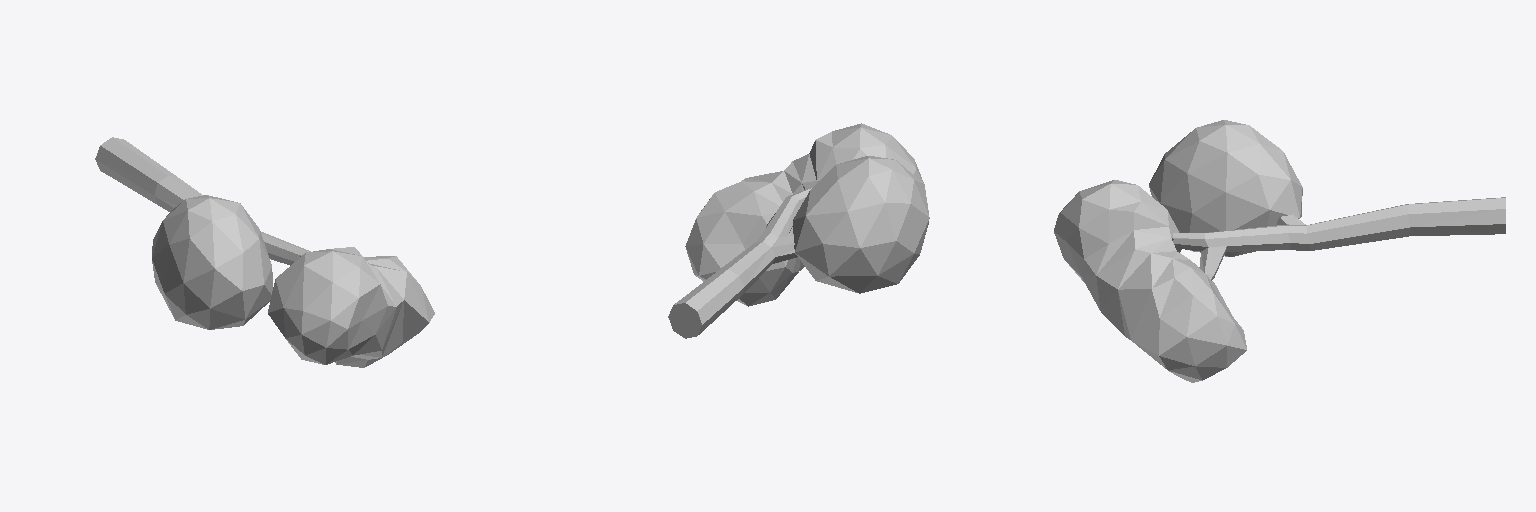
Rendered from simpleTree.obj.
The picture shows the model from 3 angles: view 1: azimuth 30°, elevation 25°; view 2: azimuth 150°, elevation 25°; view 3: azimuth 270°, elevation 25°; orthographic projection.
Visible parts, largest first — view 1: Norm_Tree_Leaves_Icosphere, Norm_Tree_Branches_Cylinder.001; view 2: Norm_Tree_Leaves_Icosphere, Norm_Tree_Branches_Cylinder.001; view 3: Norm_Tree_Leaves_Icosphere, Norm_Tree_Branches_Cylinder.001.
Boxes of the visible parts, box(x1,y1,x2,y2) form: Norm_Tree_Leaves_Icosphere: box(152, 195, 434, 367); Norm_Tree_Branches_Cylinder.001: box(95, 137, 310, 265); Norm_Tree_Leaves_Icosphere: box(685, 123, 929, 306); Norm_Tree_Branches_Cylinder.001: box(668, 188, 811, 338); Norm_Tree_Leaves_Icosphere: box(1054, 120, 1302, 382); Norm_Tree_Branches_Cylinder.001: box(1173, 197, 1505, 280).
Size of the model in its own units: 2.43 by 1.87 by 4.01.